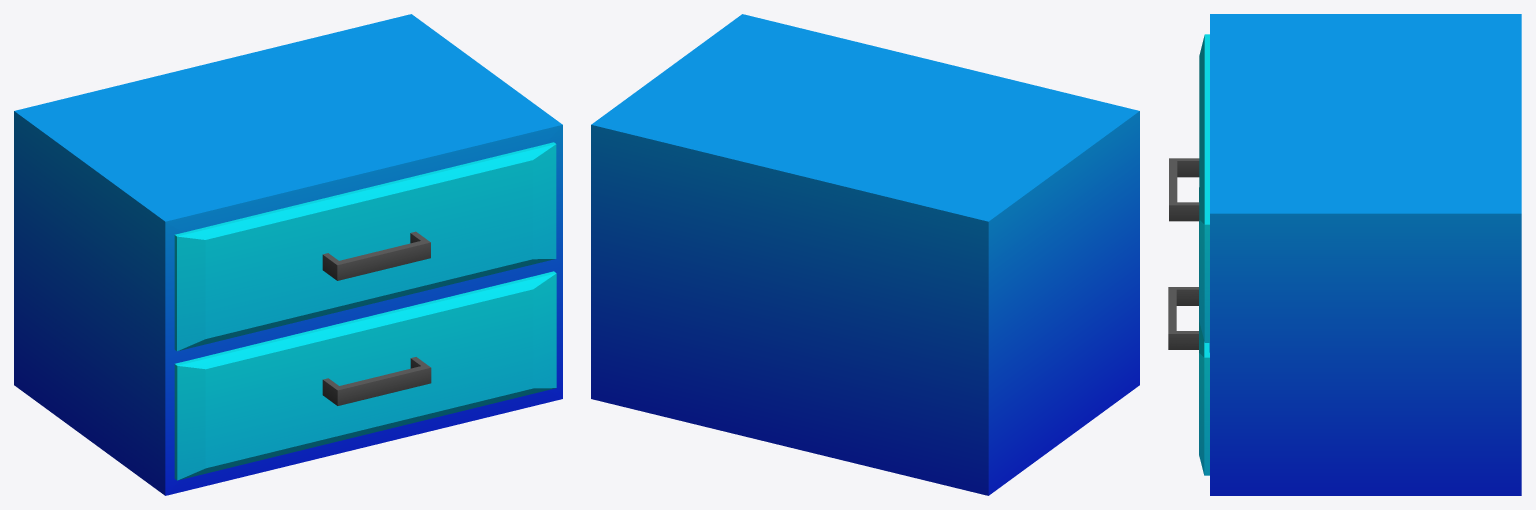
The model's file is SM_CajonCerrado.fbx.
The picture shows the model from 3 angles, left to right: view 1: azimuth 30°, elevation 25°; view 2: azimuth 150°, elevation 25°; view 3: azimuth 270°, elevation 25°; orthographic projection. The views are drawn at different scales.
Parts seen in each view (by area): view 1: CajonCerrado; view 2: CajonCerrado; view 3: CajonCerrado.
Boxes of the visible parts, left/top/right/bottom form: CajonCerrado: left=14, top=14, right=562, bottom=495; CajonCerrado: left=591, top=14, right=1139, bottom=495; CajonCerrado: left=1168, top=14, right=1521, bottom=495.
Size of the model in its own units: 152 by 100 by 113.
